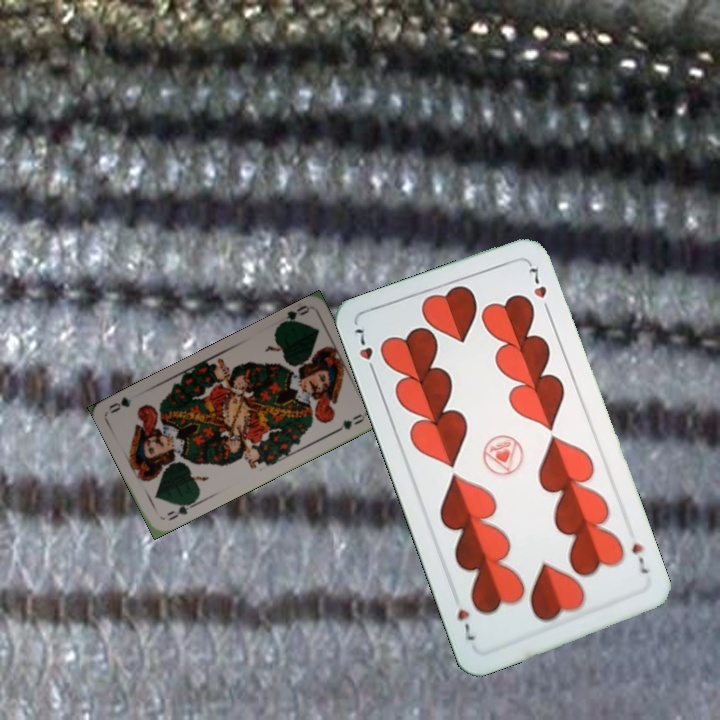GO: (274, 301, 312, 329), (163, 498, 199, 523)
H7: (351, 324, 379, 379), (627, 539, 651, 577)
